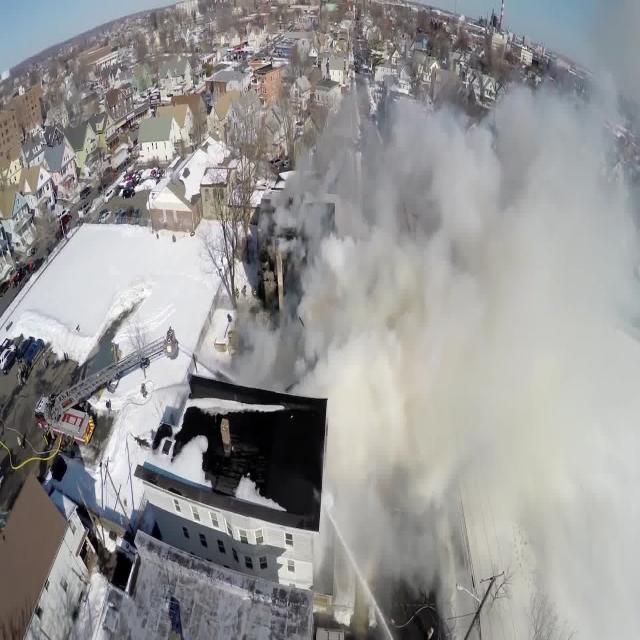Smoke: (259, 0, 640, 640)
